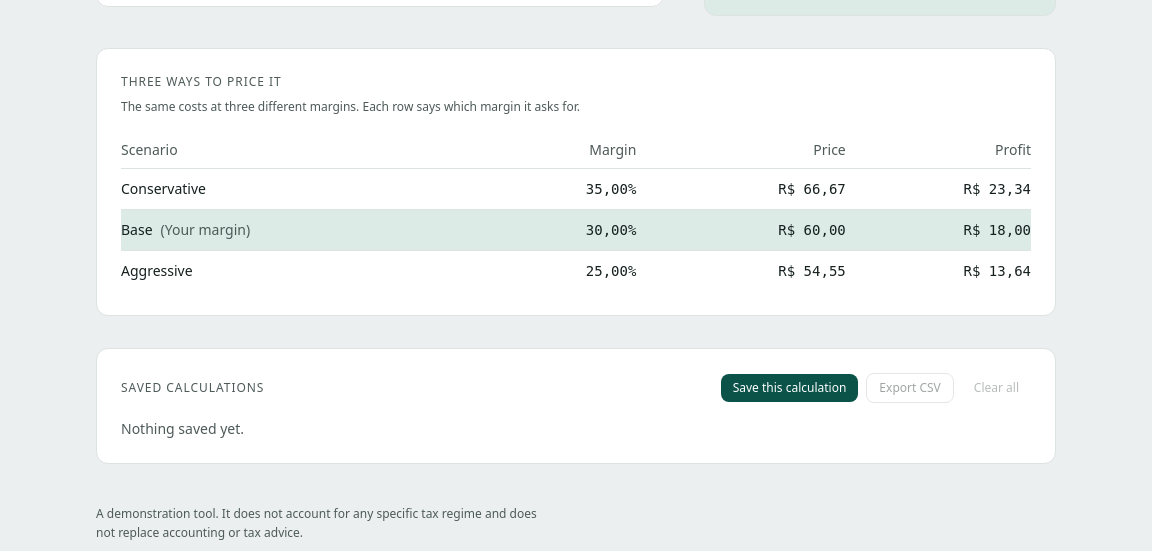
Scenario: the history › restoring resets the discount, which belonged to the old figures
This screenshot has width=1152, height=551.
(page scrolled)
Click the button "Save this calculation".
click(789, 388)  # box [721,374,858,402]
(page scrolled)
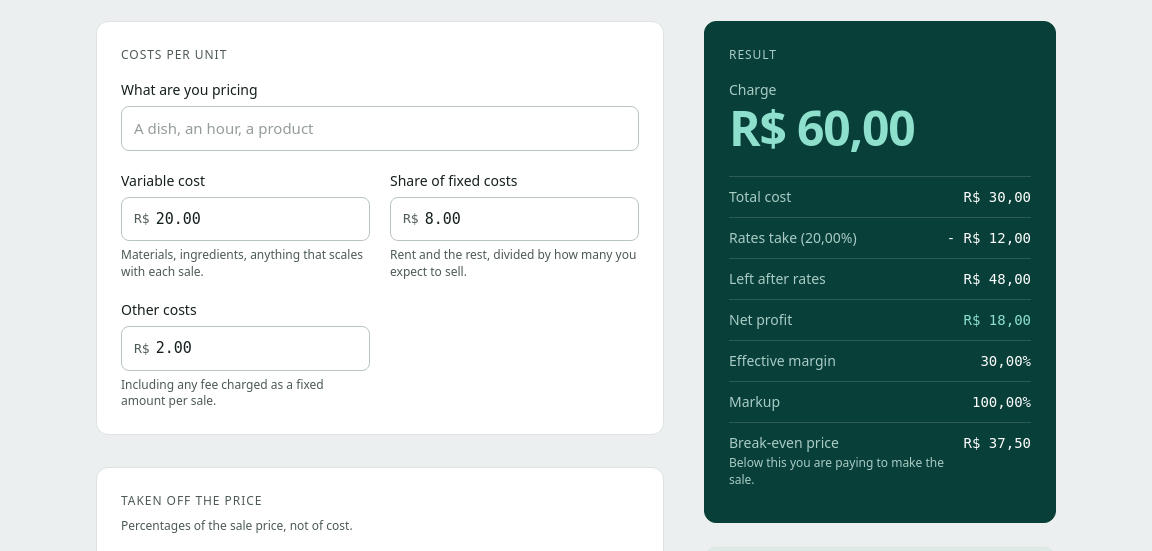
Replace the text in the field labelled "Variable cost" with "50" at [256, 219], box [156,198,357,240]
(page scrolled)
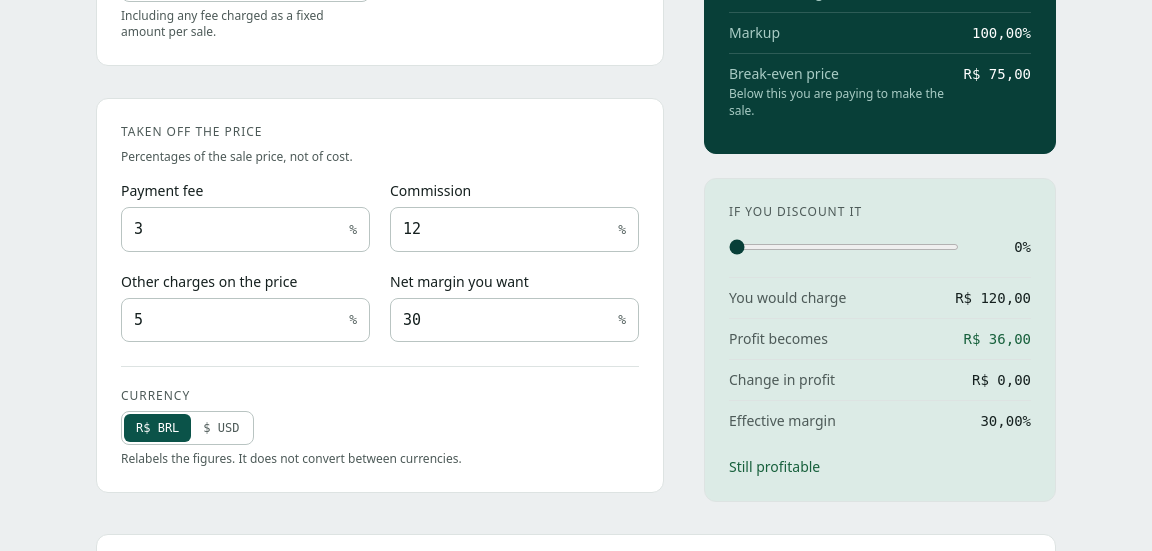
Set the slider named "Discount" to "40" at [823, 247], box [729,244,959,250]
(page scrolled)
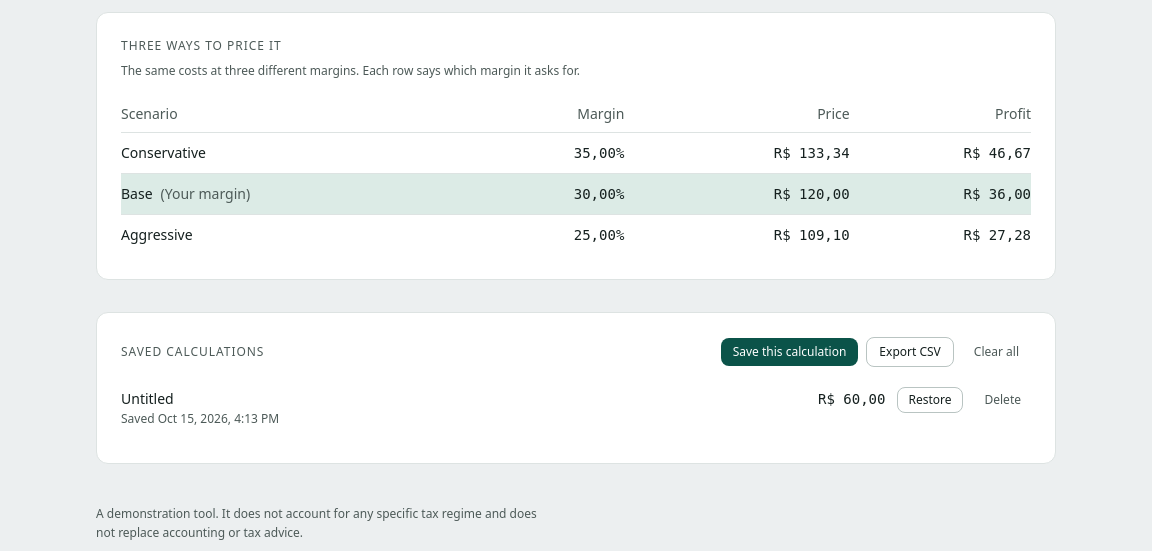
Click the button "Restore".
click(930, 400)  # box [897,386,962,412]
(page scrolled)
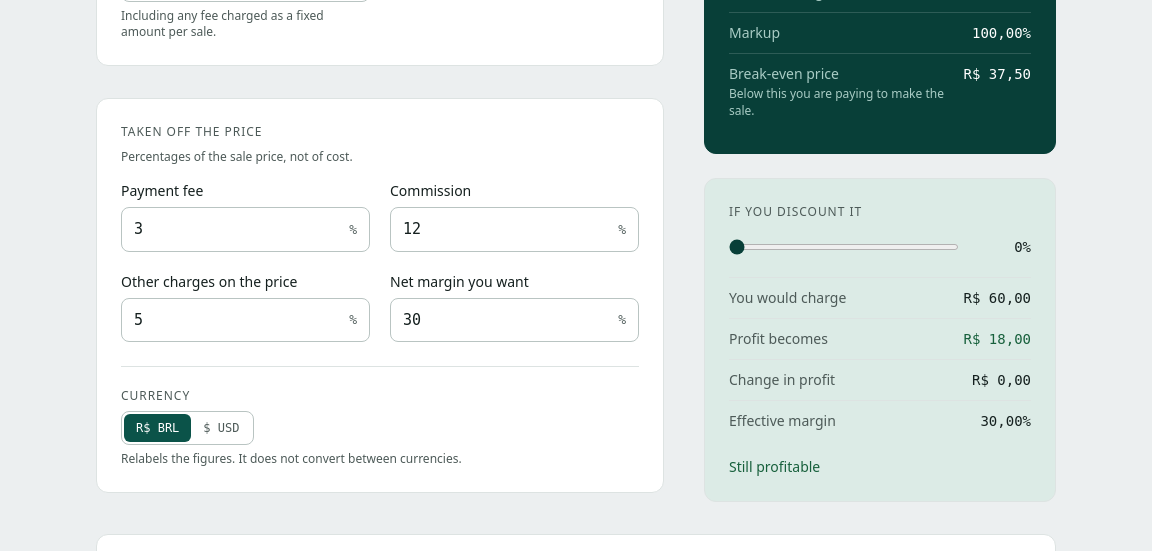
Now the slider named "Discount" holds "0", box [729,244,959,250]
